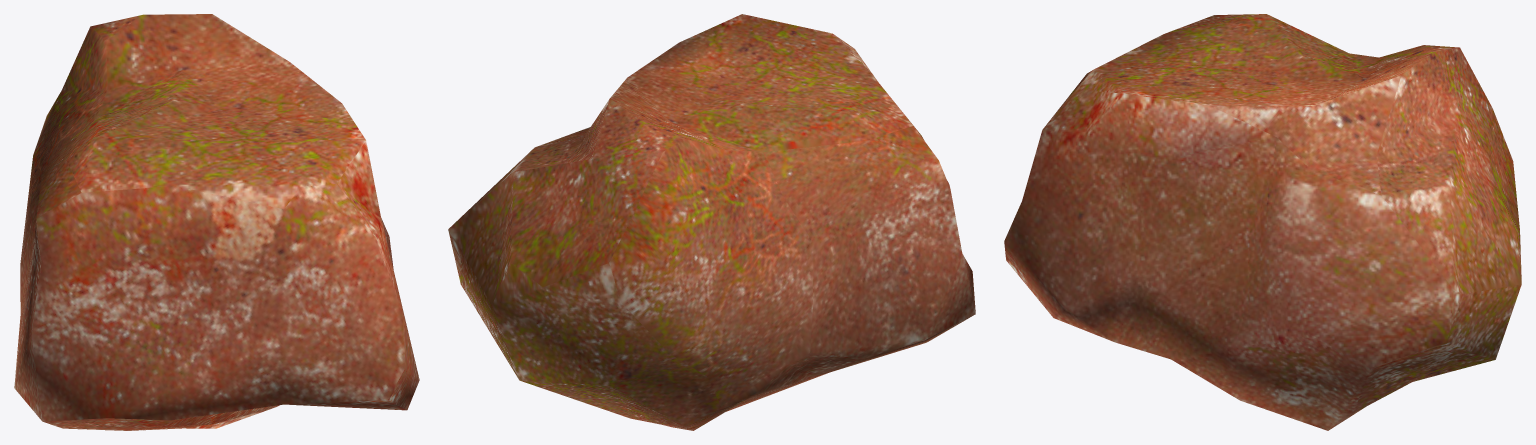
The model's file is piece1.glb.
3 renders of one model, left to right at view 1: azimuth 30°, elevation 25°; view 2: azimuth 150°, elevation 25°; view 3: azimuth 270°, elevation 25°, orthographic. The views are drawn at different scales.
Visible parts, largest first — view 1: Aset_nature_rock_S_wd3efb0_00_LOD4; view 2: Aset_nature_rock_S_wd3efb0_00_LOD4; view 3: Aset_nature_rock_S_wd3efb0_00_LOD4.
Part boxes in pixels (<box>): Aset_nature_rock_S_wd3efb0_00_LOD4: <box>14,14,419,430</box>; Aset_nature_rock_S_wd3efb0_00_LOD4: <box>448,14,975,430</box>; Aset_nature_rock_S_wd3efb0_00_LOD4: <box>1004,14,1521,430</box>.
Bounding box in the file's own units: 0.7671 × 0.6401 × 0.8559.
1 material, 1 textured.
